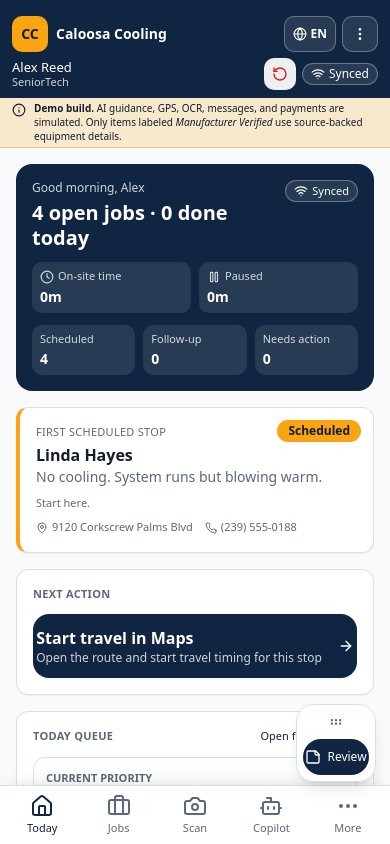
Scenario: migration baseline › autosaves review-layer drafts while the reviewer types
Click the button with aria-label "review layer": (336,757) [303, 739, 369, 775]
(page scrolled)
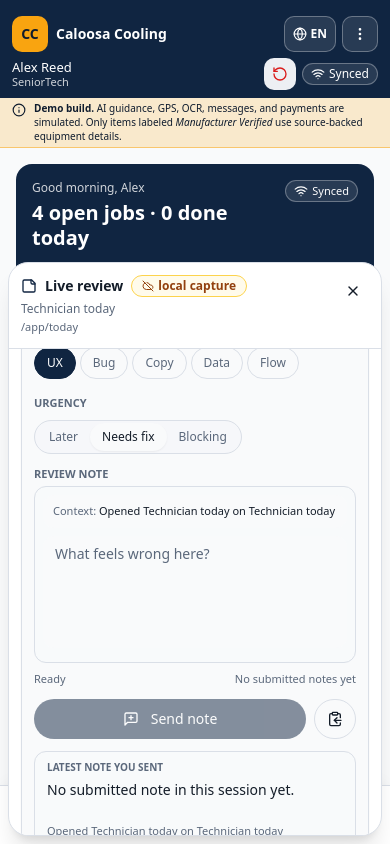
In the text box with placeholder "What feels wrong here?": (195,592) [43, 536, 347, 648], type "Today page cards need stronger scan hierarchy."
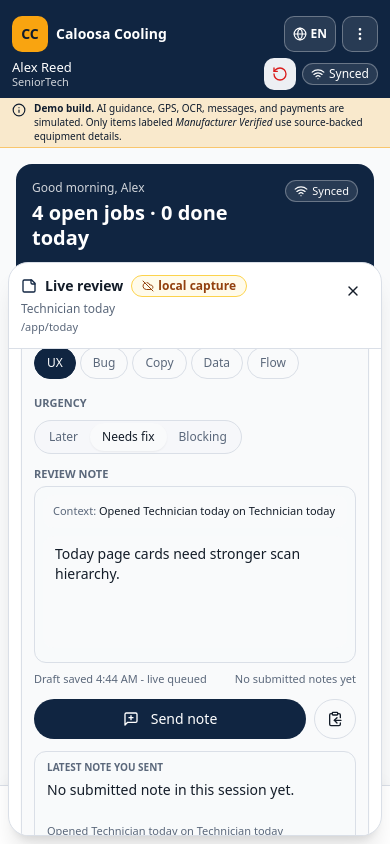
Expected: the text "Draft saved 4:44 AM - live queued" is shown, [34, 671, 207, 687]
